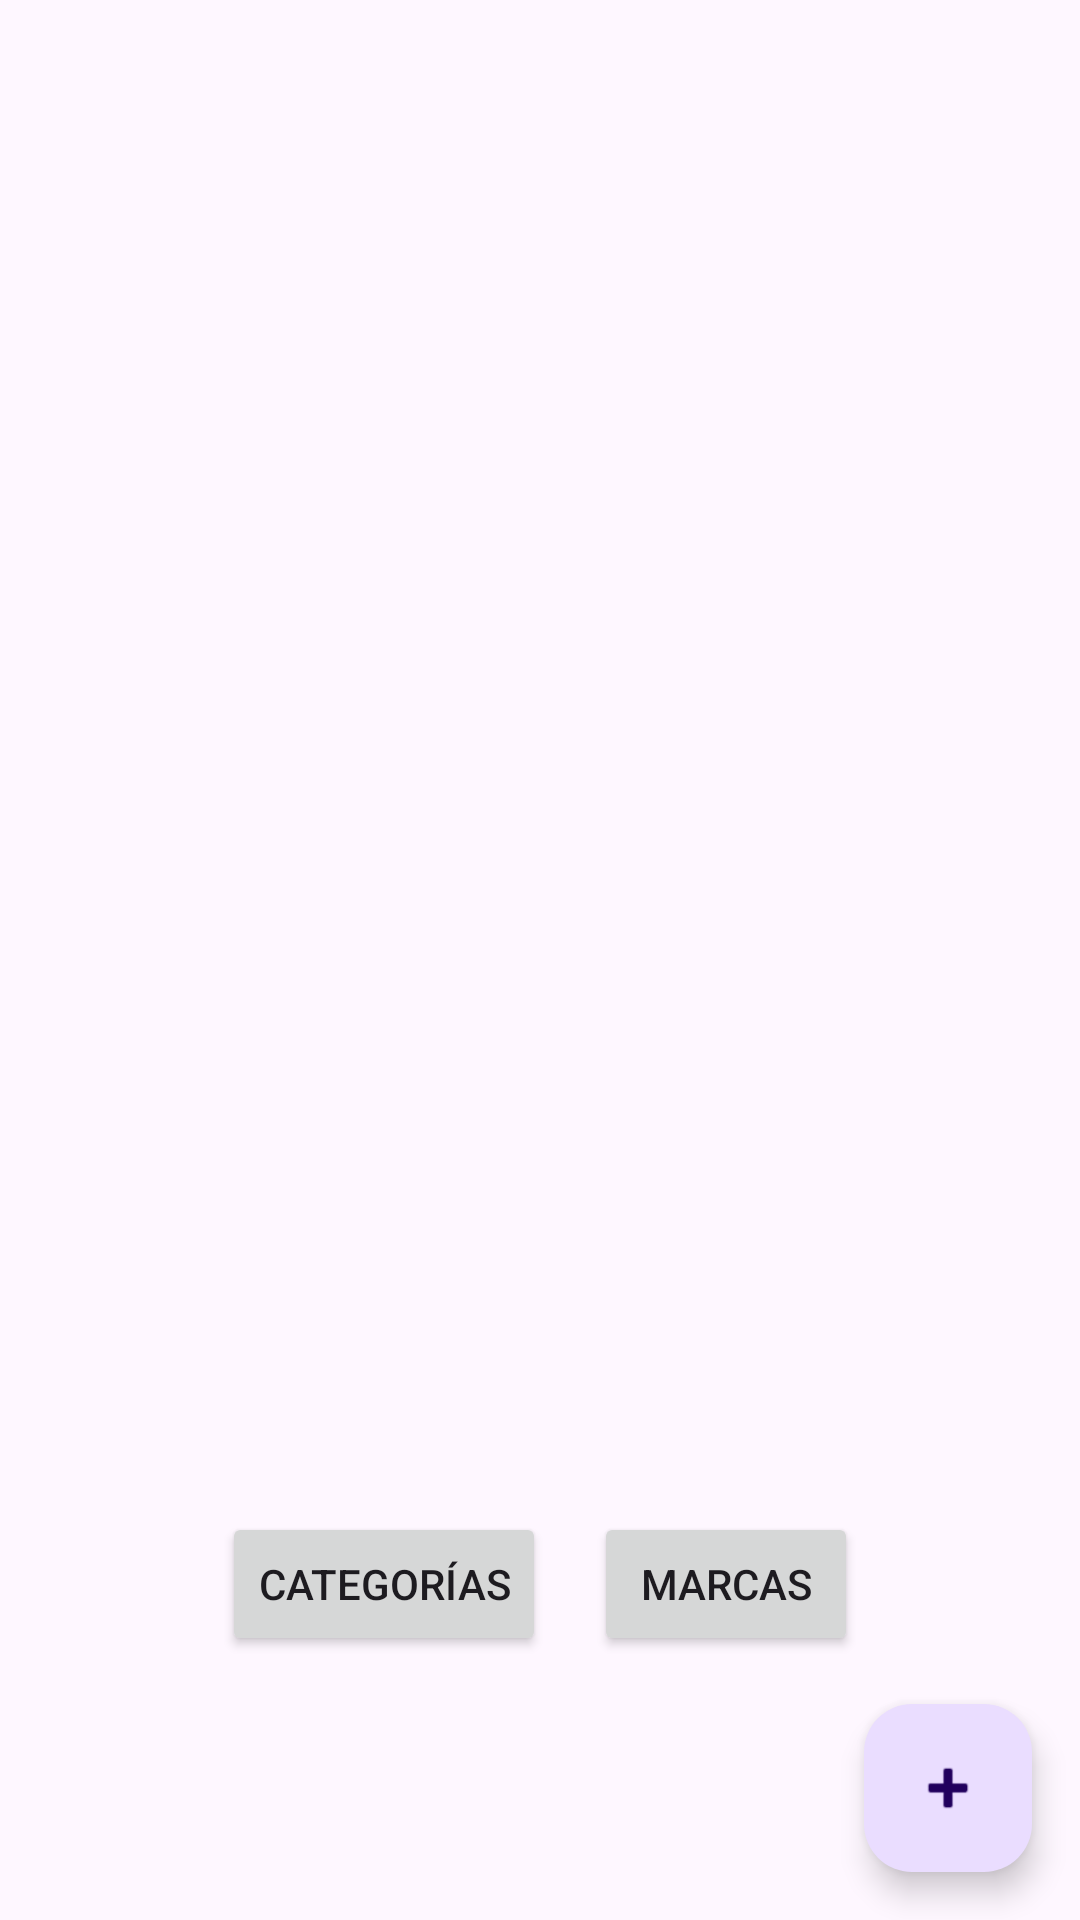

Locate icon controls on the screen. Image size 1080w x 1920h, boxes as (x1, y1, x2, y2).
Agregar producto: (864, 1704, 1032, 1872)
